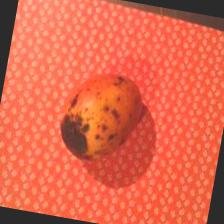Mango Overripe: (51, 60, 147, 168)
